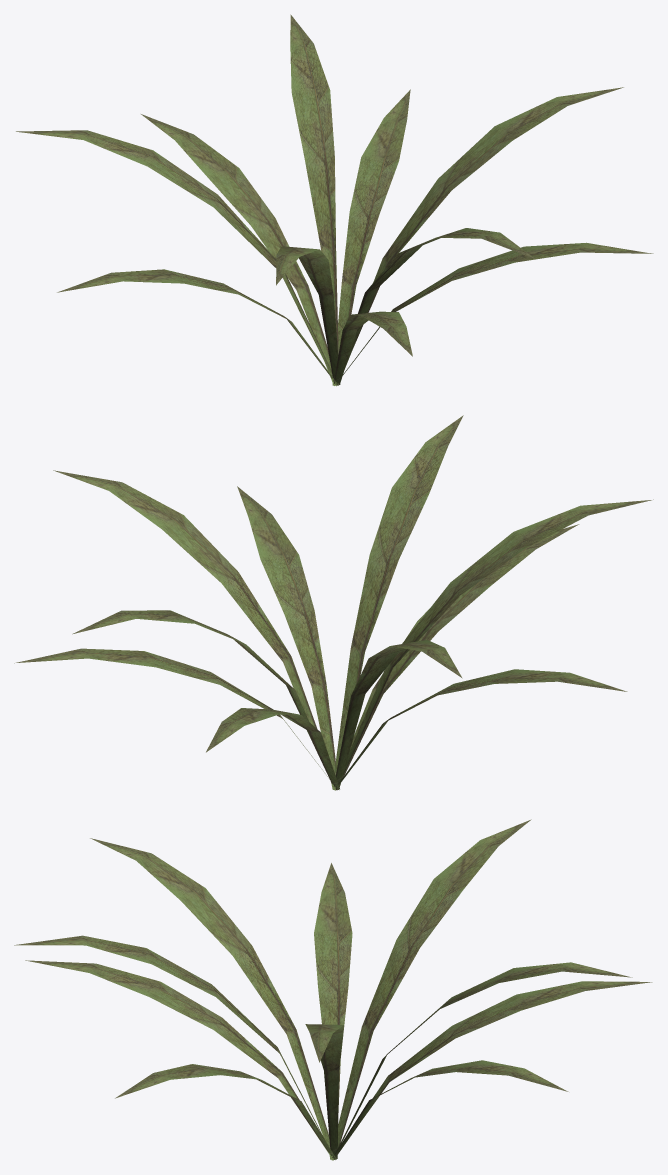
File: plant_013.dae
The picture shows the model from 3 angles, top to bottom: view 1: azimuth 30°, elevation 25°; view 2: azimuth 150°, elevation 25°; view 3: azimuth 270°, elevation 25°; orthographic projection. The views are drawn at different scales.
Visible parts, largest first — view 1: Plant_013; view 2: Plant_013; view 3: Plant_013.
Boxes of the visible parts, left/top/right/bottom form: Plant_013: left=16, top=14, right=653, bottom=386; Plant_013: left=14, top=415, right=653, bottom=790; Plant_013: left=14, top=819, right=652, bottom=1160.
Size of the model in its own units: 2.77 by 1.1 by 2.75.
